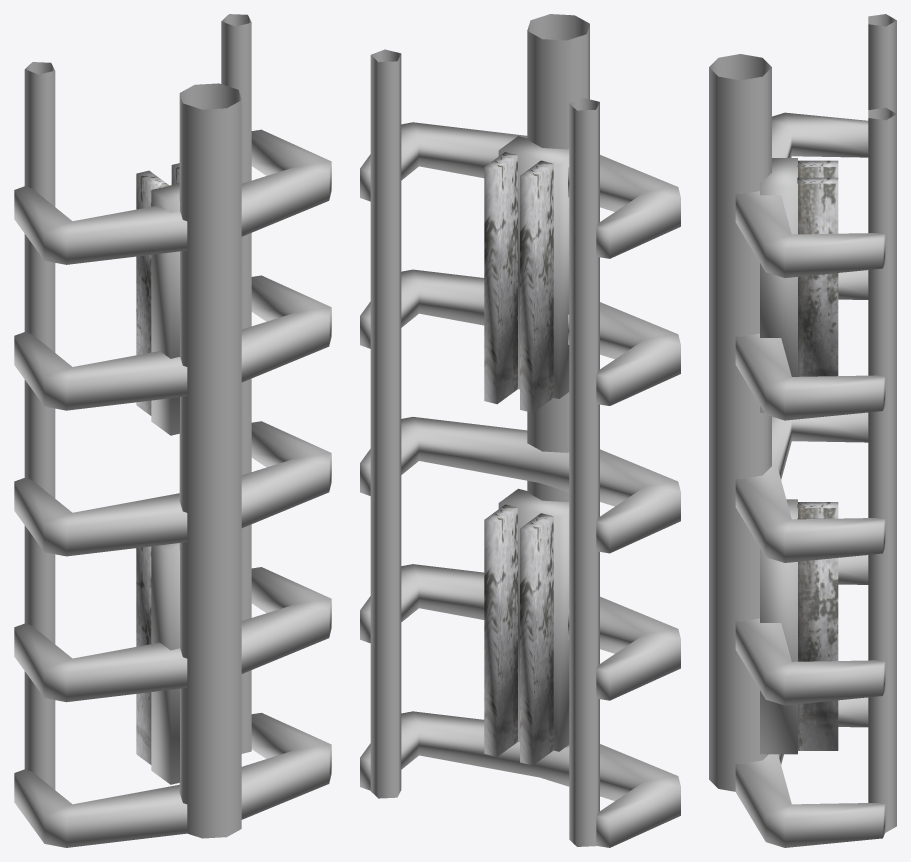
The model's file is steel 1 linear motor.fbx.
3 renders of one model, left to right at view 1: azimuth 30°, elevation 25°; view 2: azimuth 150°, elevation 25°; view 3: azimuth 270°, elevation 25°, orthographic. The views are drawn at different scales.
Parts seen in each view (by area): view 1: Circle_002; view 2: Circle_002; view 3: Circle_002.
Boxes of the visible parts, x1=… form: Circle_002: x1=14, y1=14, x2=331, y2=847; Circle_002: x1=360, y1=14, x2=680, y2=847; Circle_002: x1=709, y1=14, x2=896, y2=847.
Bounding box in the file's own units: 2.06 × 5 × 1.19.
